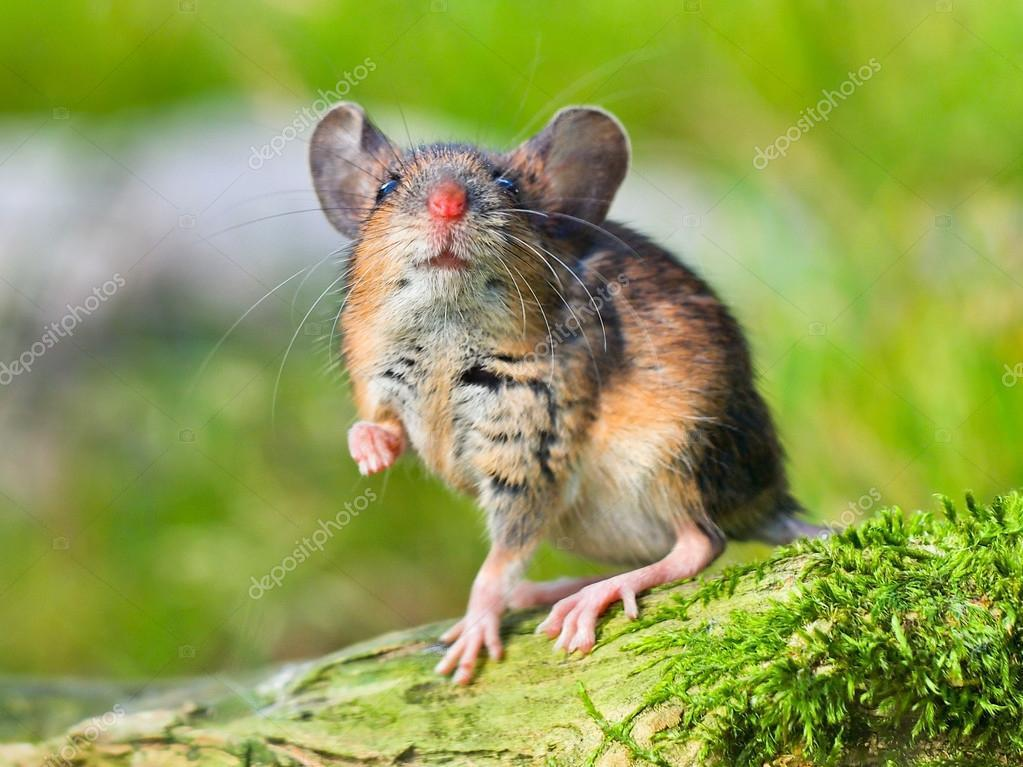rat: (308, 100, 841, 687)
